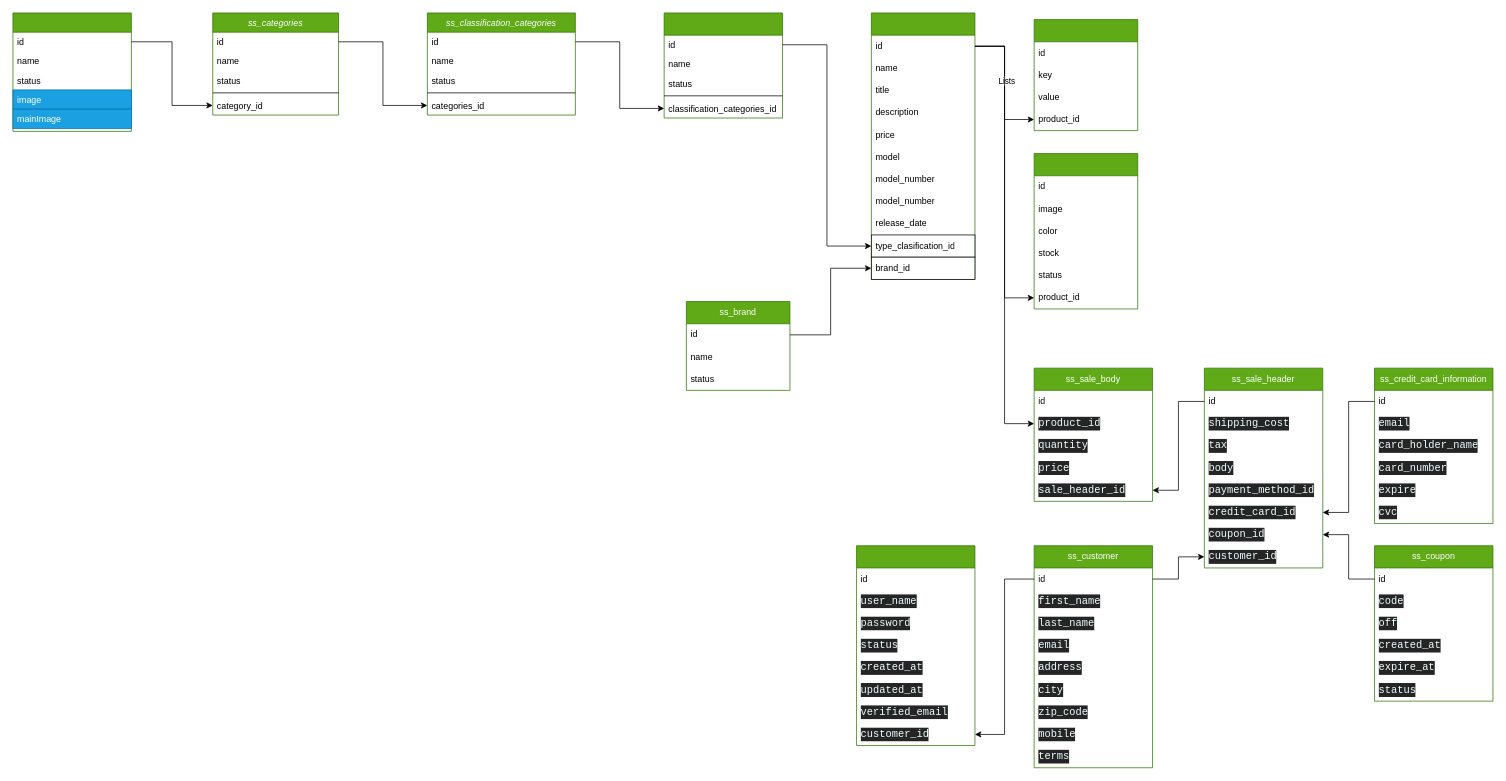
Image size: 1506x781. Some labels were removed from this diagram. The box of each missing label's shape, as (x1, y1, x2, y2) in pixels:
ss_category: (12, 12, 131, 131)
ss_product: (871, 12, 975, 279)
ss_product_detail: (1033, 19, 1138, 131)
ss_type_classification: (663, 12, 783, 118)
ss_user_customer: (856, 545, 975, 746)
ss_view_product: (1033, 153, 1138, 309)
